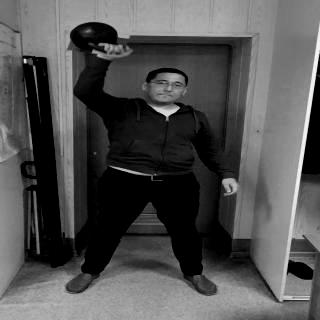kettlebell: (70, 22, 133, 56)
